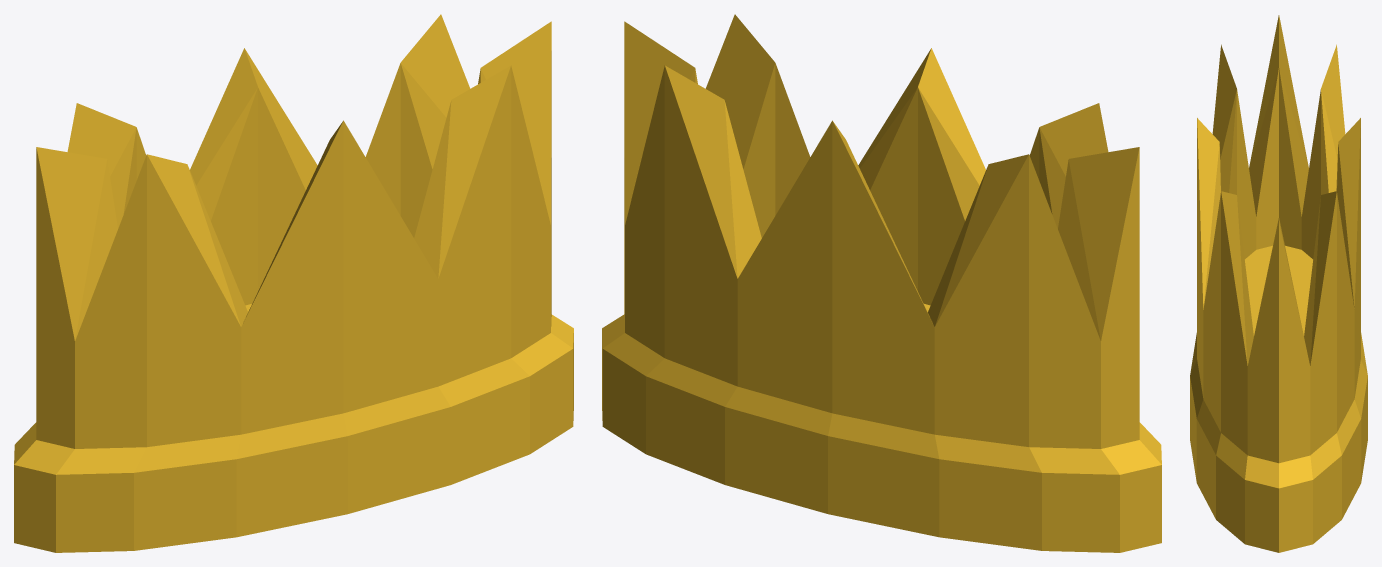
The model's file is ENV_LB_Topper_Crown.fbx.
3 views of the same model, side by side, from view 1: azimuth 30°, elevation 25°; view 2: azimuth 150°, elevation 25°; view 3: azimuth 270°, elevation 25° (orthographic). The views are drawn at different scales.
Parts seen in each view (by area): view 1: Crown; view 2: Crown; view 3: Crown.
Boxes of the visible parts, bbox=[...] form: Crown: bbox=[14, 14, 573, 552]; Crown: bbox=[602, 14, 1161, 552]; Crown: bbox=[1190, 15, 1367, 552].
Size of the model in its own units: 3 by 2 by 1.
